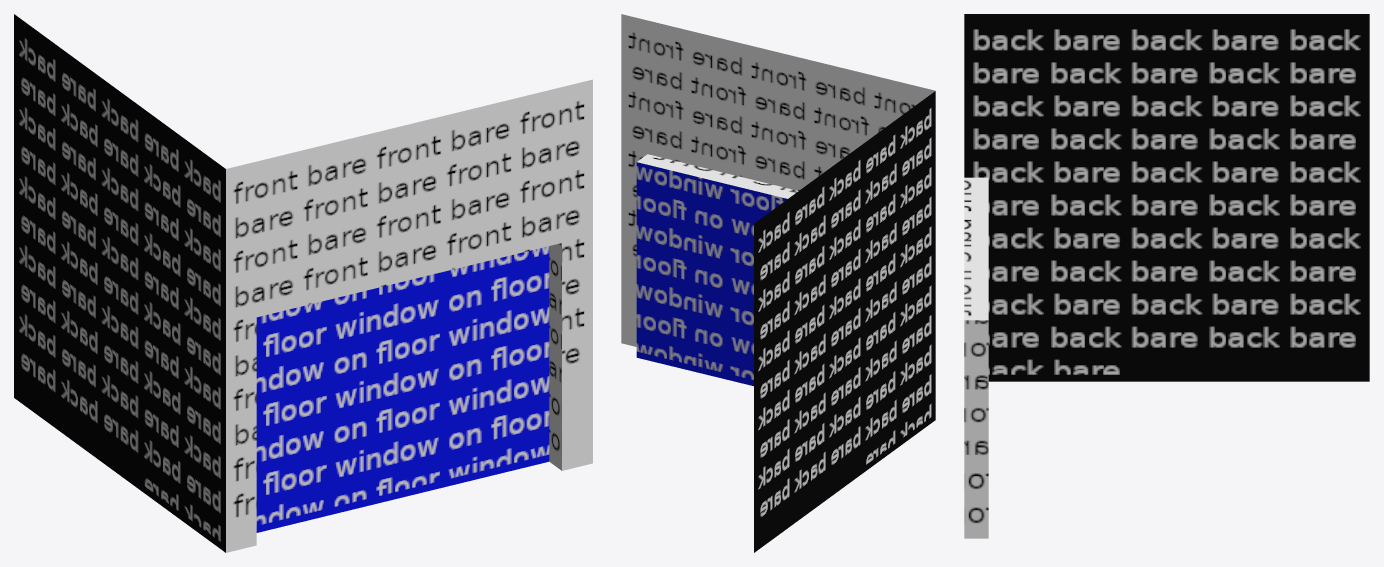
File: left_edge_window_on_floor.gltf
3 views of the same model, side by side, from view 1: azimuth 30°, elevation 25°; view 2: azimuth 150°, elevation 25°; view 3: azimuth 270°, elevation 25° (orthographic). The views are drawn at different scales.
Visible parts, largest first — view 1: left_edge_window_on_floor; view 2: left_edge_window_on_floor; view 3: left_edge_window_on_floor.
Boxes of the visible parts, x1,y1,x2,y2 form: left_edge_window_on_floor: (14, 14, 592, 552); left_edge_window_on_floor: (621, 14, 935, 552); left_edge_window_on_floor: (964, 14, 1369, 538).
Bounding box in the file's own units: 5 × 5 × 5.
Materials: 3 (3 with a texture image).
